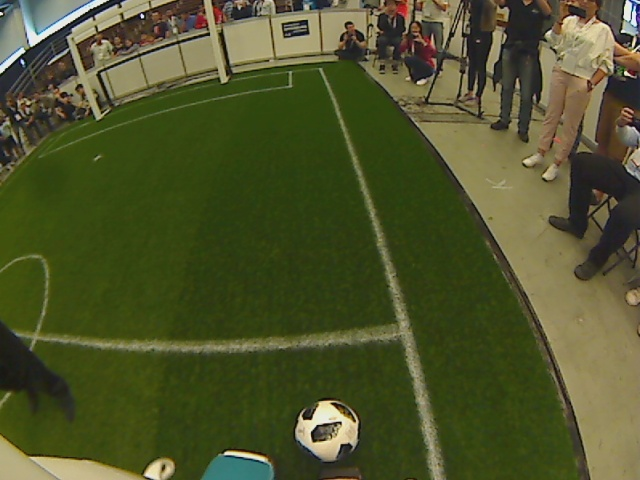ball: (291, 397, 361, 463)
